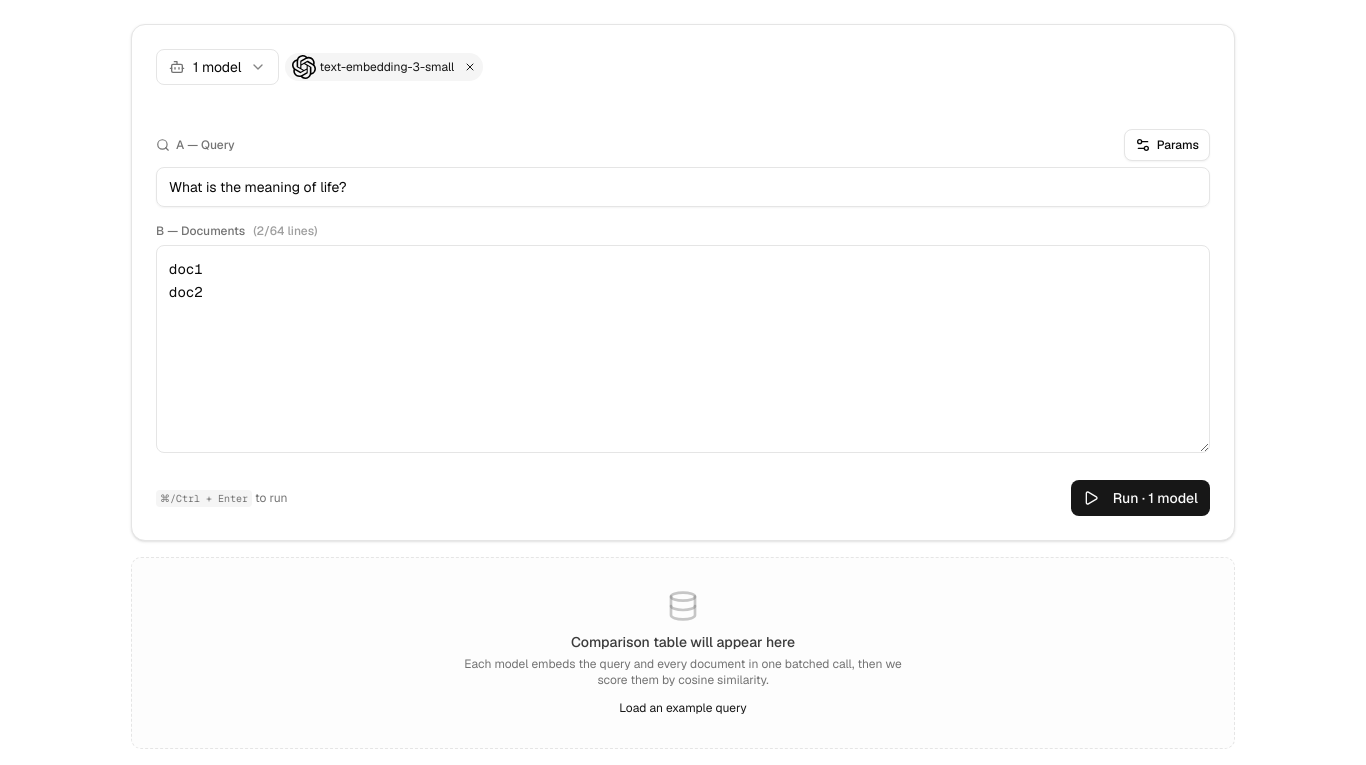
Test case: EmbeddingPlayground — submit flow › shows an ApiError message via toast.error and an error card on failure
Click the button "Run · 1 model" at (1140, 498), box [1071,480,1210,516]
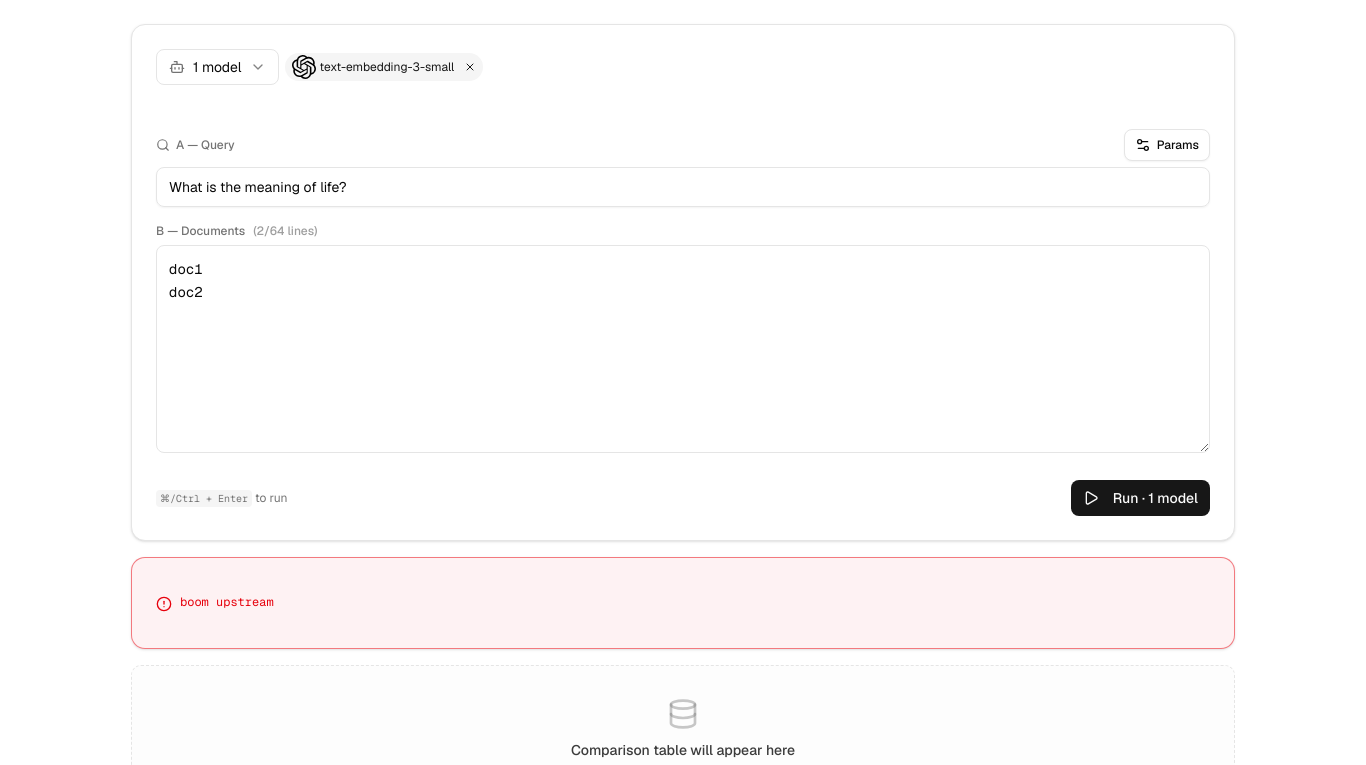
Expected: the text "boom upstream" is shown, [180,594,274,610]
